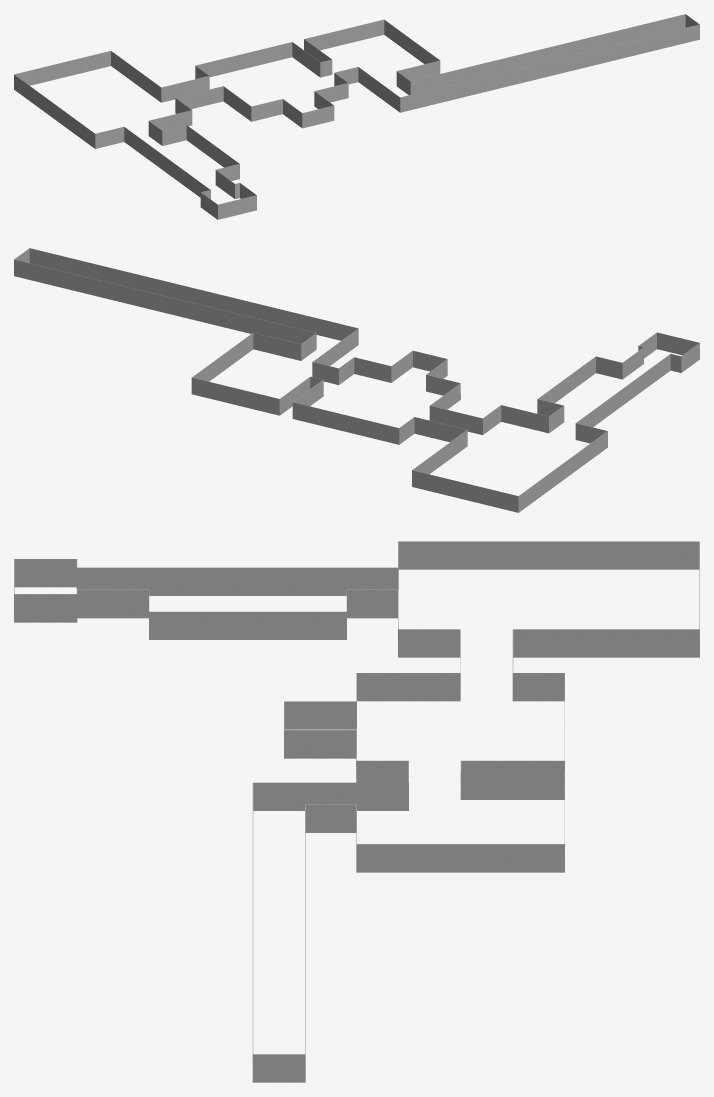
File: Level0Walls.fbx
The picture shows the model from 3 angles, top to bottom: view 1: azimuth 30°, elevation 25°; view 2: azimuth 150°, elevation 25°; view 3: azimuth 270°, elevation 25°; orthographic projection. The views are drawn at different scales.
Visible parts, largest first — view 1: Level0Walls; view 2: Level0Walls; view 3: Level0Walls.
Boxes of the visible parts, <box> form: Level0Walls: <box>14,14,699,219</box>; Level0Walls: <box>14,248,699,512</box>; Level0Walls: <box>14,541,699,1082</box>.
Size of the model in its own units: 11701 by 300 by 6610.
